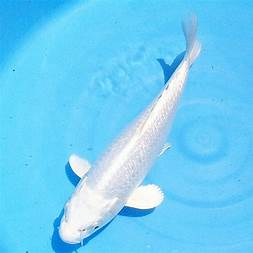white: (56, 11, 205, 245)
